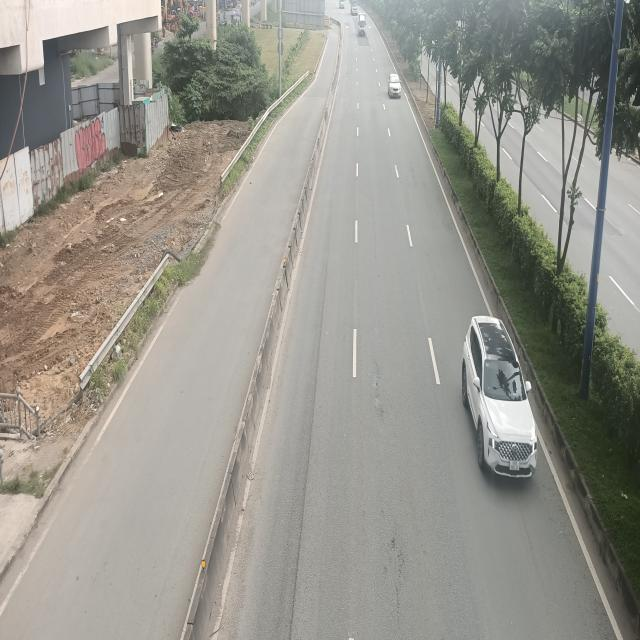car: (462, 313, 538, 477)
